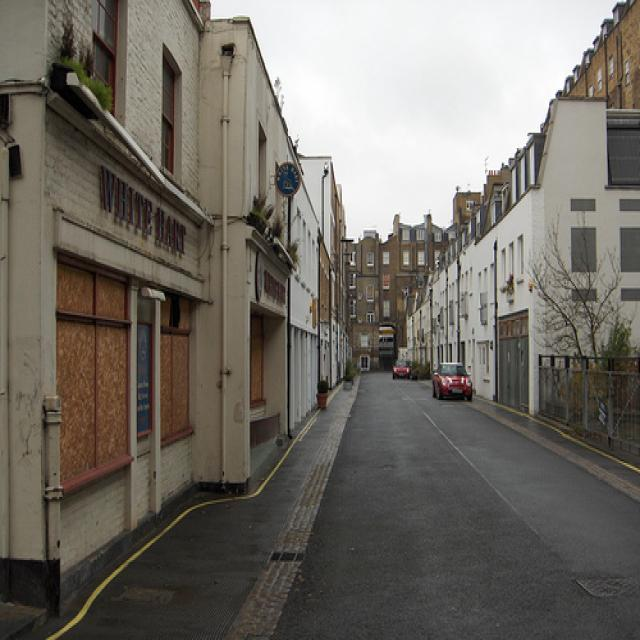car: (434, 360, 473, 403), (393, 360, 409, 381)
pottedplant: (50, 11, 112, 127), (247, 192, 272, 236), (267, 214, 285, 256), (282, 238, 300, 273), (316, 379, 329, 411), (343, 362, 354, 389)
